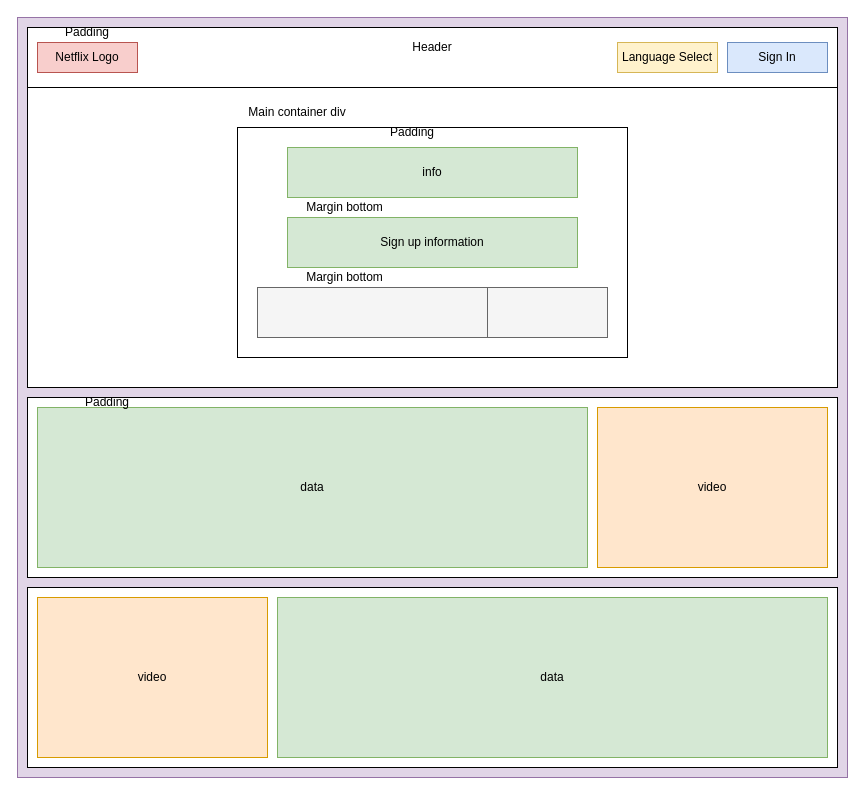
The diagram is 865 pixels wide and 795 high, and some of its shapes have lost their labels. Here are the shapes that lost their labels. From the top down, the box of each, then its label:
(256, 286, 488, 338): input
(486, 286, 608, 338): button
